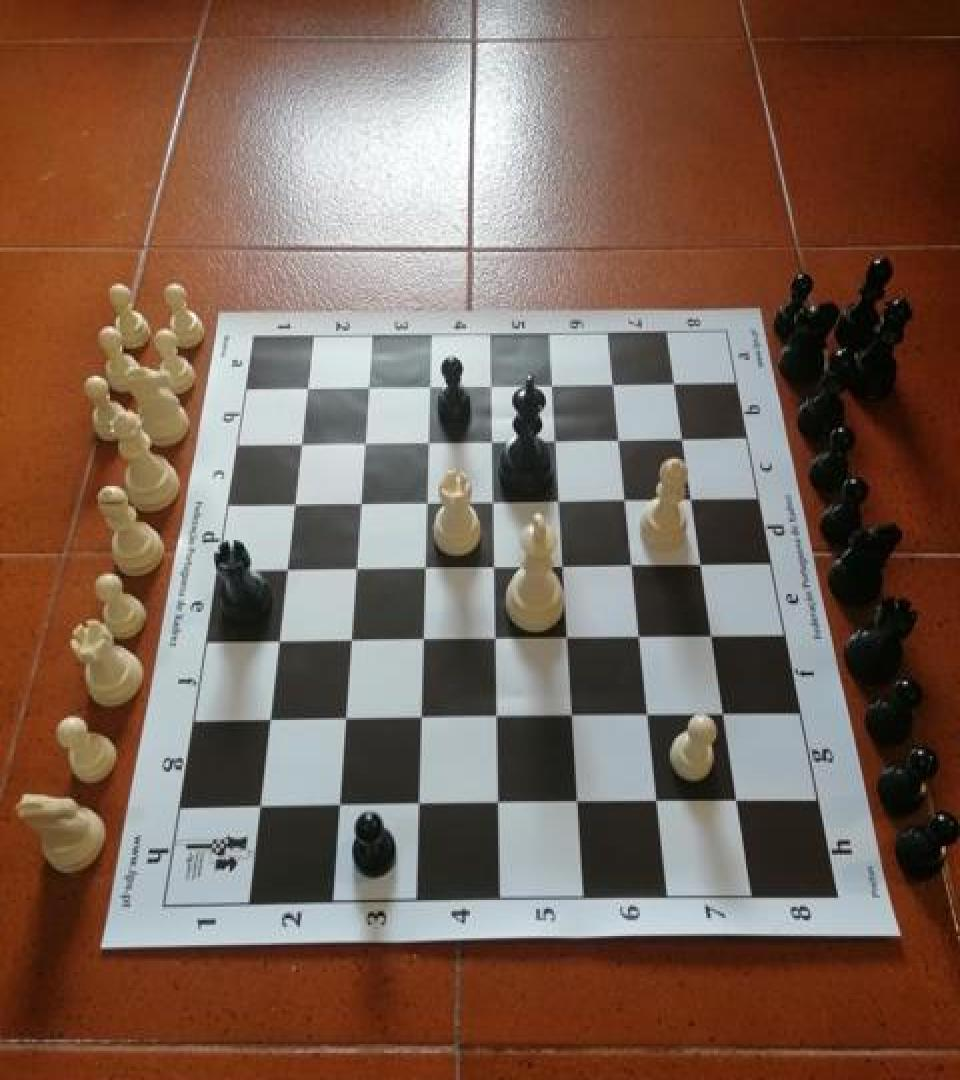xcorner: (481, 369, 509, 401), (419, 370, 447, 402), (358, 370, 386, 402), (297, 371, 325, 403), (609, 423, 637, 455), (545, 424, 573, 456), (481, 424, 509, 456), (418, 425, 446, 457), (354, 426, 382, 458), (291, 427, 319, 459), (416, 486, 444, 518), (350, 486, 378, 518), (283, 487, 311, 519), (622, 549, 650, 581), (552, 550, 580, 582), (483, 550, 511, 582), (414, 551, 442, 583), (345, 552, 373, 584), (276, 552, 304, 584), (556, 621, 584, 653), (484, 622, 512, 654), (412, 623, 440, 655), (339, 623, 367, 655), (267, 624, 295, 656), (713, 697, 741, 729), (333, 702, 361, 734), (258, 703, 286, 735), (725, 784, 753, 816), (645, 785, 673, 817), (566, 786, 594, 818), (486, 786, 514, 818), (406, 787, 434, 819), (664, 367, 692, 398), (603, 367, 631, 398), (542, 368, 570, 399), (673, 422, 701, 453), (681, 483, 709, 514), (615, 483, 643, 514), (548, 484, 576, 515), (482, 485, 510, 516), (691, 548, 719, 579), (701, 620, 729, 651), (629, 620, 657, 651), (637, 699, 665, 730), (561, 700, 589, 731), (485, 701, 513, 732), (409, 701, 437, 732), (327, 789, 355, 820), (248, 789, 276, 820)
